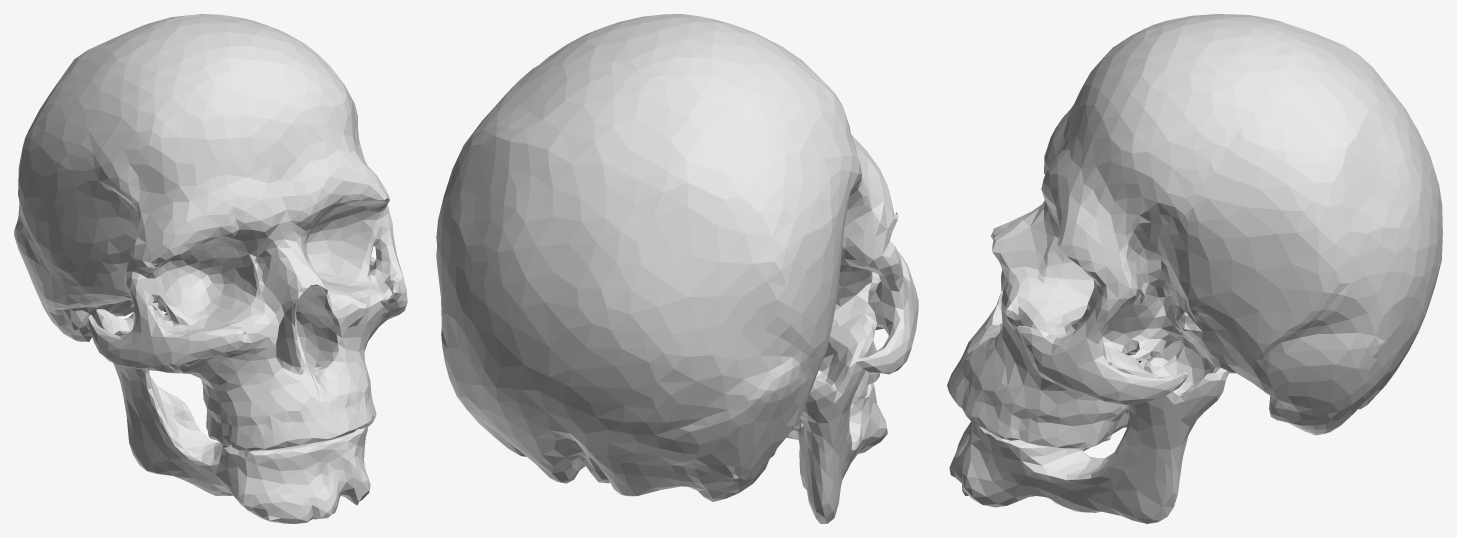
Rendered from skull_one_r1.glb.
3 renders of one model, left to right at view 1: azimuth 30°, elevation 25°; view 2: azimuth 150°, elevation 25°; view 3: azimuth 270°, elevation 25°, orthographic. The views are drawn at different scales.
Visible parts, largest first — view 1: Low; view 2: Low; view 3: Low.
Boxes of the visible parts, x1,y1,x2,y2 form: Low: [14, 14, 407, 523]; Low: [436, 14, 918, 523]; Low: [947, 14, 1442, 523].
Bounding box in the file's own units: 1.48 × 1.97 × 1.97.
1 material, 1 textured.
